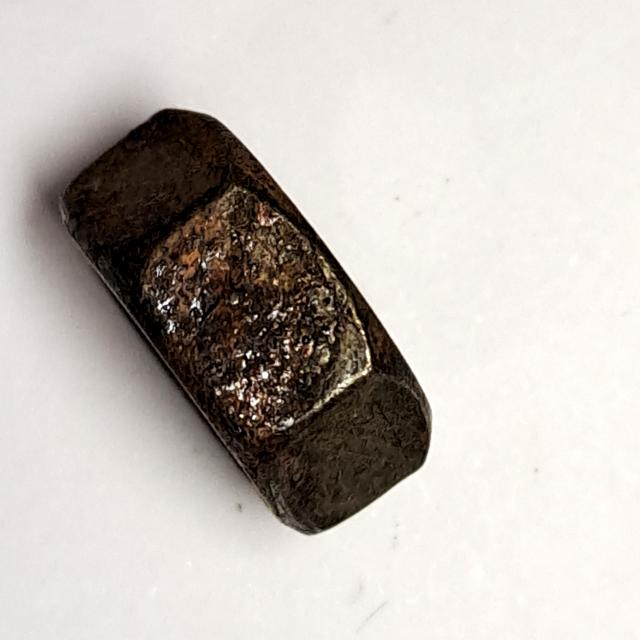Side_Rust: (38, 91, 449, 556)
